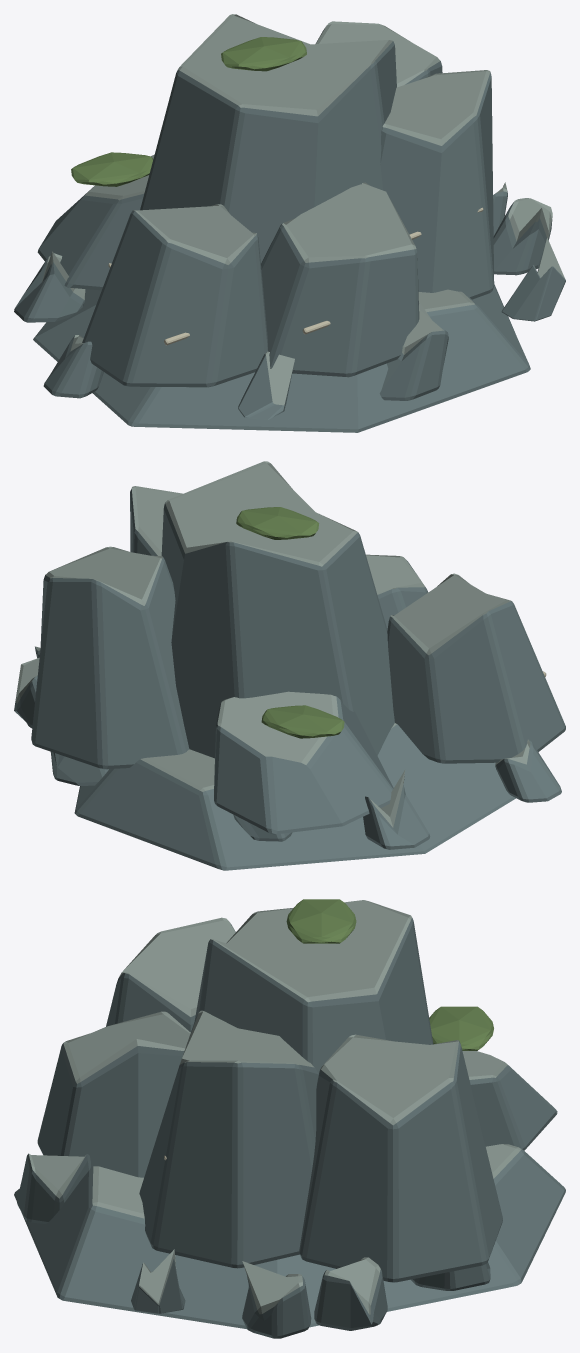
Rendered from stone_outcrop_c.glb.
3 views of the same model, one above another, from view 1: azimuth 30°, elevation 25°; view 2: azimuth 150°, elevation 25°; view 3: azimuth 270°, elevation 25° (orthographic). The views are drawn at different scales.
Parts seen in each view (by area): view 1: FracturedMass.006, FracturedMass.052, FracturedMass.053, FracturedMass.056, FracturedMass.054, FracturedMass.055, FracturedMass.057, MossShelf.022, MossShelf.023; view 2: FracturedMass.052, FracturedMass.006, FracturedMass.057, FracturedMass.053, FracturedMass.055, FracturedMass.056, FracturedMass.054, MossShelf.023, MossShelf.022; view 3: FracturedMass.006, FracturedMass.057, FracturedMass.054, FracturedMass.052, FracturedMass.056, FracturedMass.053, FracturedMass.055, MossShelf.022, MossShelf.023.
Boxes of the visible parts, left/top/right/bottom form: FracturedMass.006: left=14, top=182, right=565, bottom=432; FracturedMass.052: left=140, top=14, right=396, bottom=263; FracturedMass.053: left=82, top=204, right=267, bottom=387; FracturedMass.056: left=261, top=182, right=419, bottom=377; FracturedMass.054: left=380, top=70, right=494, bottom=299; FracturedMass.055: left=37, top=154, right=154, bottom=290; FracturedMass.057: left=315, top=21, right=442, bottom=87; MossShelf.022: left=221, top=37, right=306, bottom=71; MossShelf.023: left=71, top=152, right=153, bottom=186; FracturedMass.052: left=161, top=461, right=394, bottom=758; FracturedMass.006: left=14, top=646, right=561, bottom=870; FracturedMass.057: left=31, top=546, right=189, bottom=769; FracturedMass.053: left=387, top=573, right=565, bottom=763; FracturedMass.055: left=214, top=691, right=393, bottom=834; FracturedMass.056: left=366, top=554, right=428, bottom=629; FracturedMass.054: left=130, top=486, right=182, bottom=556; MossShelf.023: left=261, top=705, right=344, bottom=738; MossShelf.022: left=236, top=507, right=319, bottom=539; FracturedMass.006: left=14, top=1144, right=565, bottom=1338; FracturedMass.057: left=299, top=1034, right=502, bottom=1282; FracturedMass.054: left=139, top=1010, right=318, bottom=1268; FracturedMass.052: left=194, top=900, right=433, bottom=1074; FracturedMass.056: left=37, top=1011, right=190, bottom=1177; FracturedMass.053: left=106, top=917, right=235, bottom=1032; FracturedMass.055: left=462, top=1051, right=557, bottom=1150; MossShelf.022: left=286, top=899, right=356, bottom=943; MossShelf.023: left=429, top=1006, right=493, bottom=1050.
Bounding box in the file's own units: 2.46 × 1.27 × 2.02.
